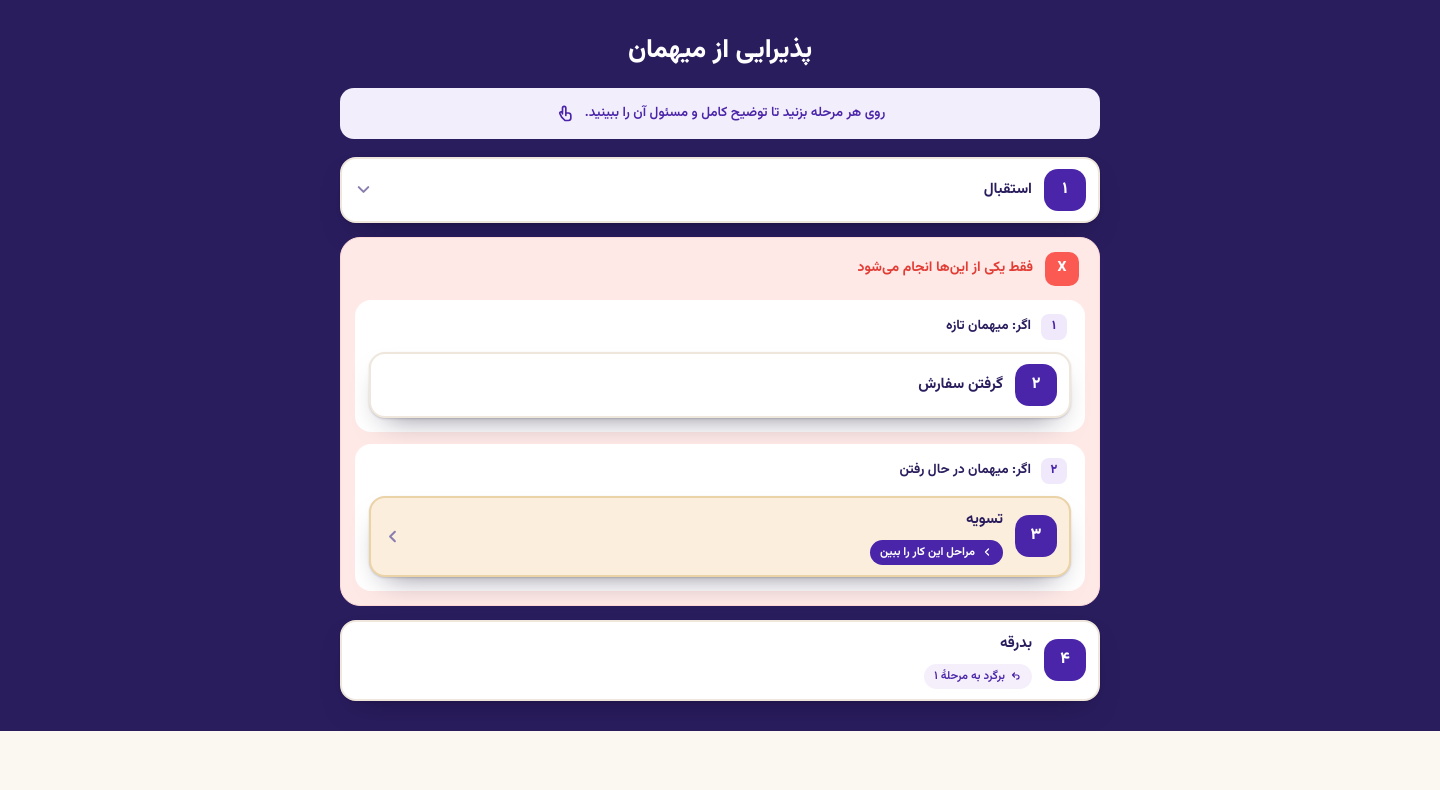
it: Steps — «گام‌به‌گام» › opens a step’s body on the press and shows who does it
What coordinates should you click on to do the following:
click the text "استقبال"
I would click on:
 (1008, 190)
Its box is [984,178,1032,202].
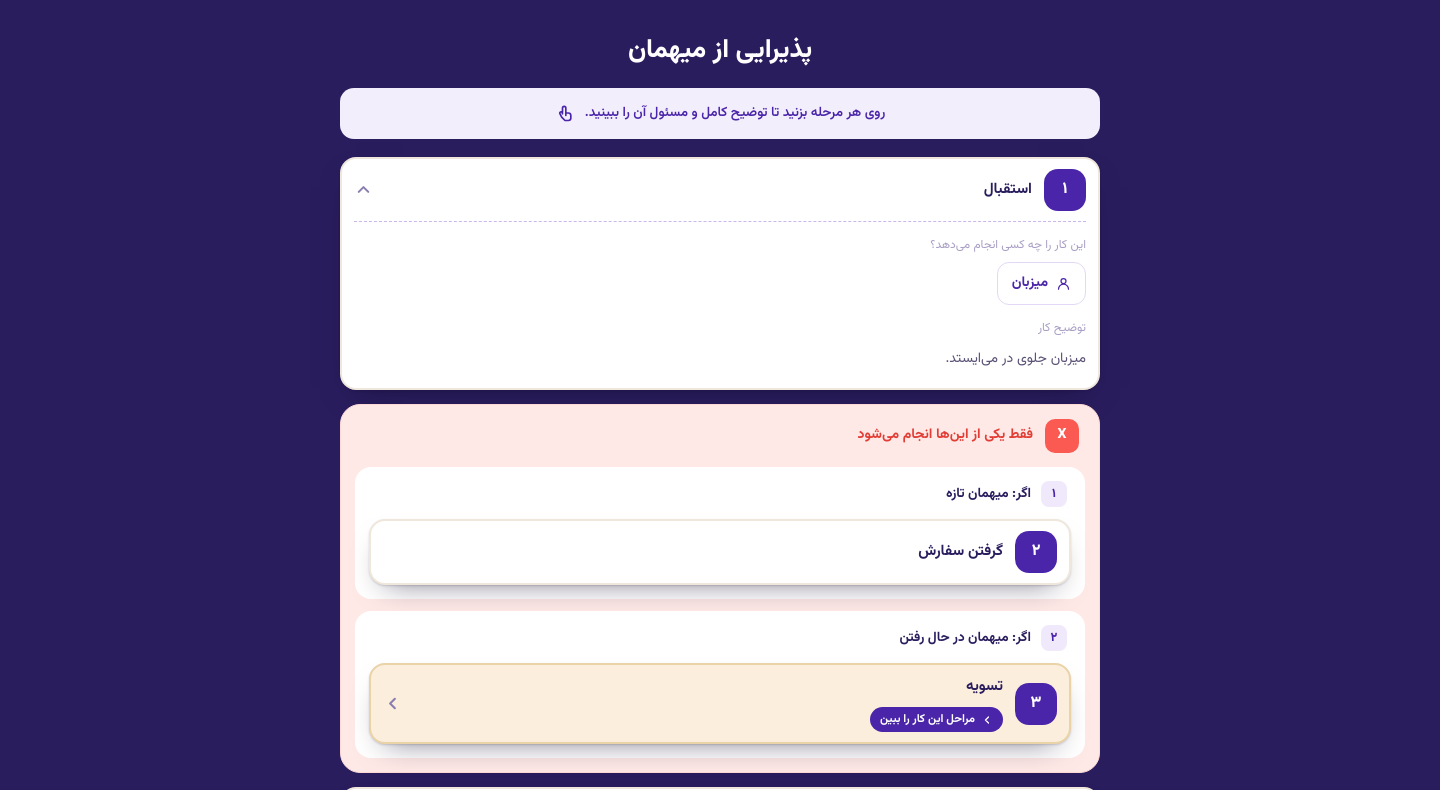
expect the button "میزبان" is shown: met, box [997,262,1086,304]
expect the text "میزبان جلوی در می‌ایستد." is shown: met, box [945,348,1086,370]
